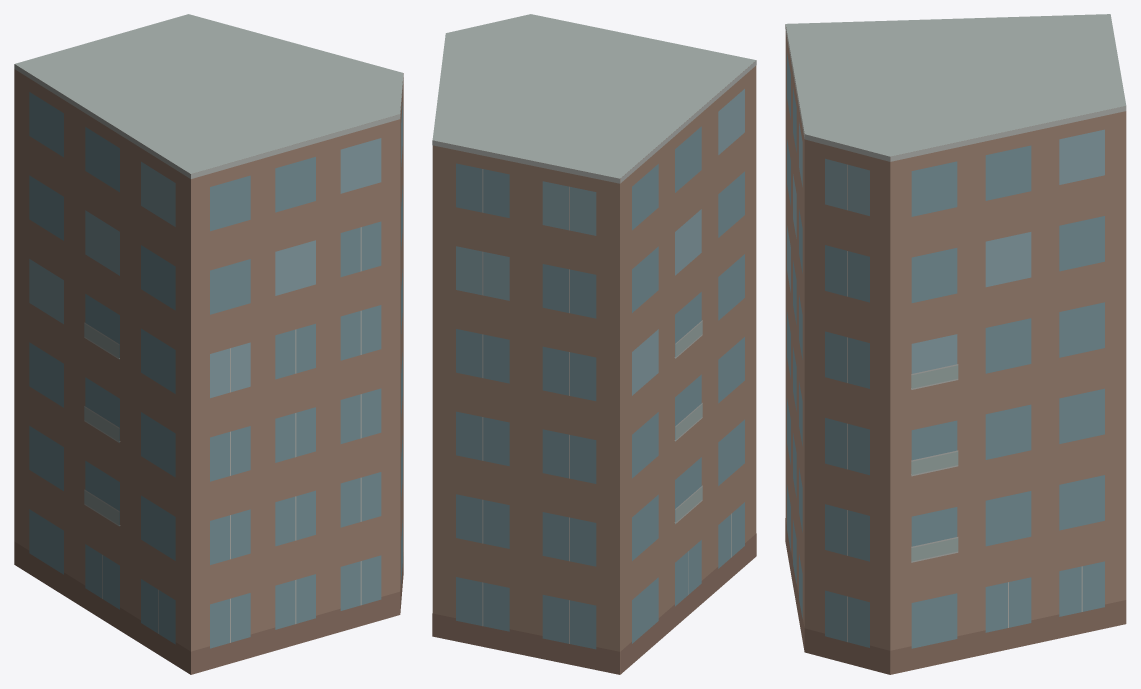
File: survey-upis-32930207.glb
3 views of the same model, side by side, from view 1: azimuth 30°, elevation 25°; view 2: azimuth 150°, elevation 25°; view 3: azimuth 270°, elevation 25° (orthographic). The views are drawn at different scales.
Visible parts, largest first — view 1: survey-upis-32930207.tmp; view 2: survey-upis-32930207.tmp; view 3: survey-upis-32930207.tmp.
Part boxes in pixels (bbox=[...]): survey-upis-32930207.tmp: bbox=[14, 14, 403, 674]; survey-upis-32930207.tmp: bbox=[432, 14, 756, 674]; survey-upis-32930207.tmp: bbox=[785, 14, 1126, 674].
Size of the model in its own units: 14.24 by 24.1 by 14.38.
